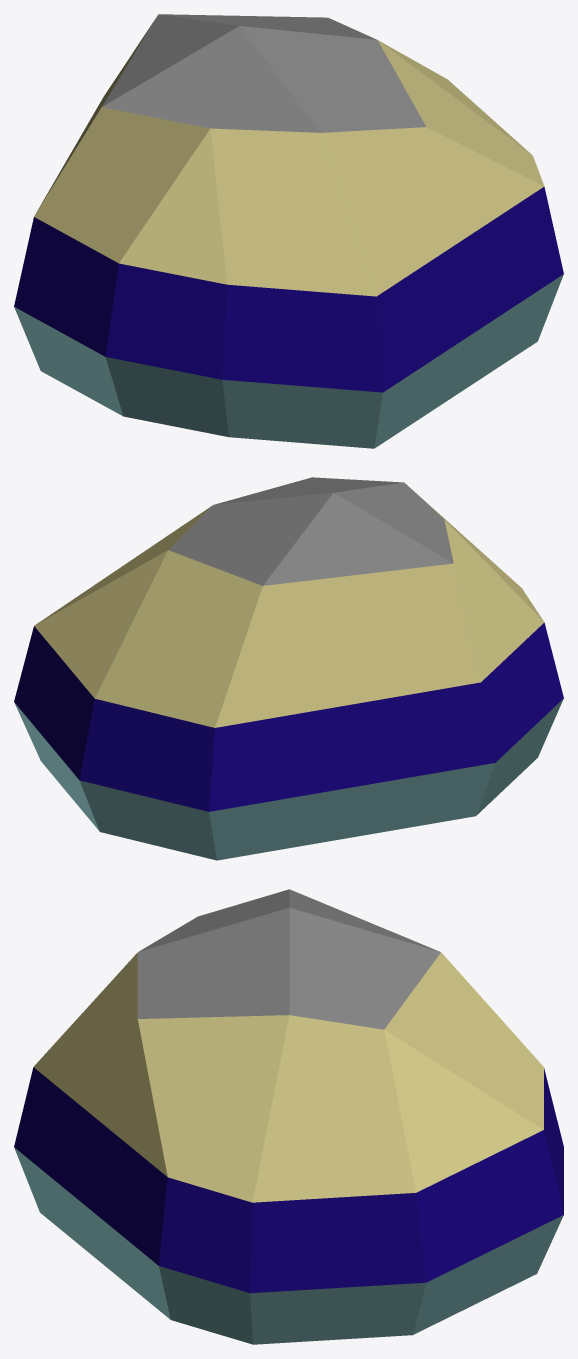
The model's file is rock.fbx.
3 views of the same model, one above another, from view 1: azimuth 30°, elevation 25°; view 2: azimuth 150°, elevation 25°; view 3: azimuth 270°, elevation 25° (orthographic). The views are drawn at different scales.
Visible parts, largest first — view 1: Plane002; view 2: Plane002; view 3: Plane002.
Boxes of the visible parts, left/top/right/bottom form: Plane002: left=14, top=14, right=563, bottom=448; Plane002: left=14, top=477, right=563, bottom=860; Plane002: left=14, top=889, right=563, bottom=1344.
Size of the model in its own units: 43.13 by 27.82 by 44.02.
